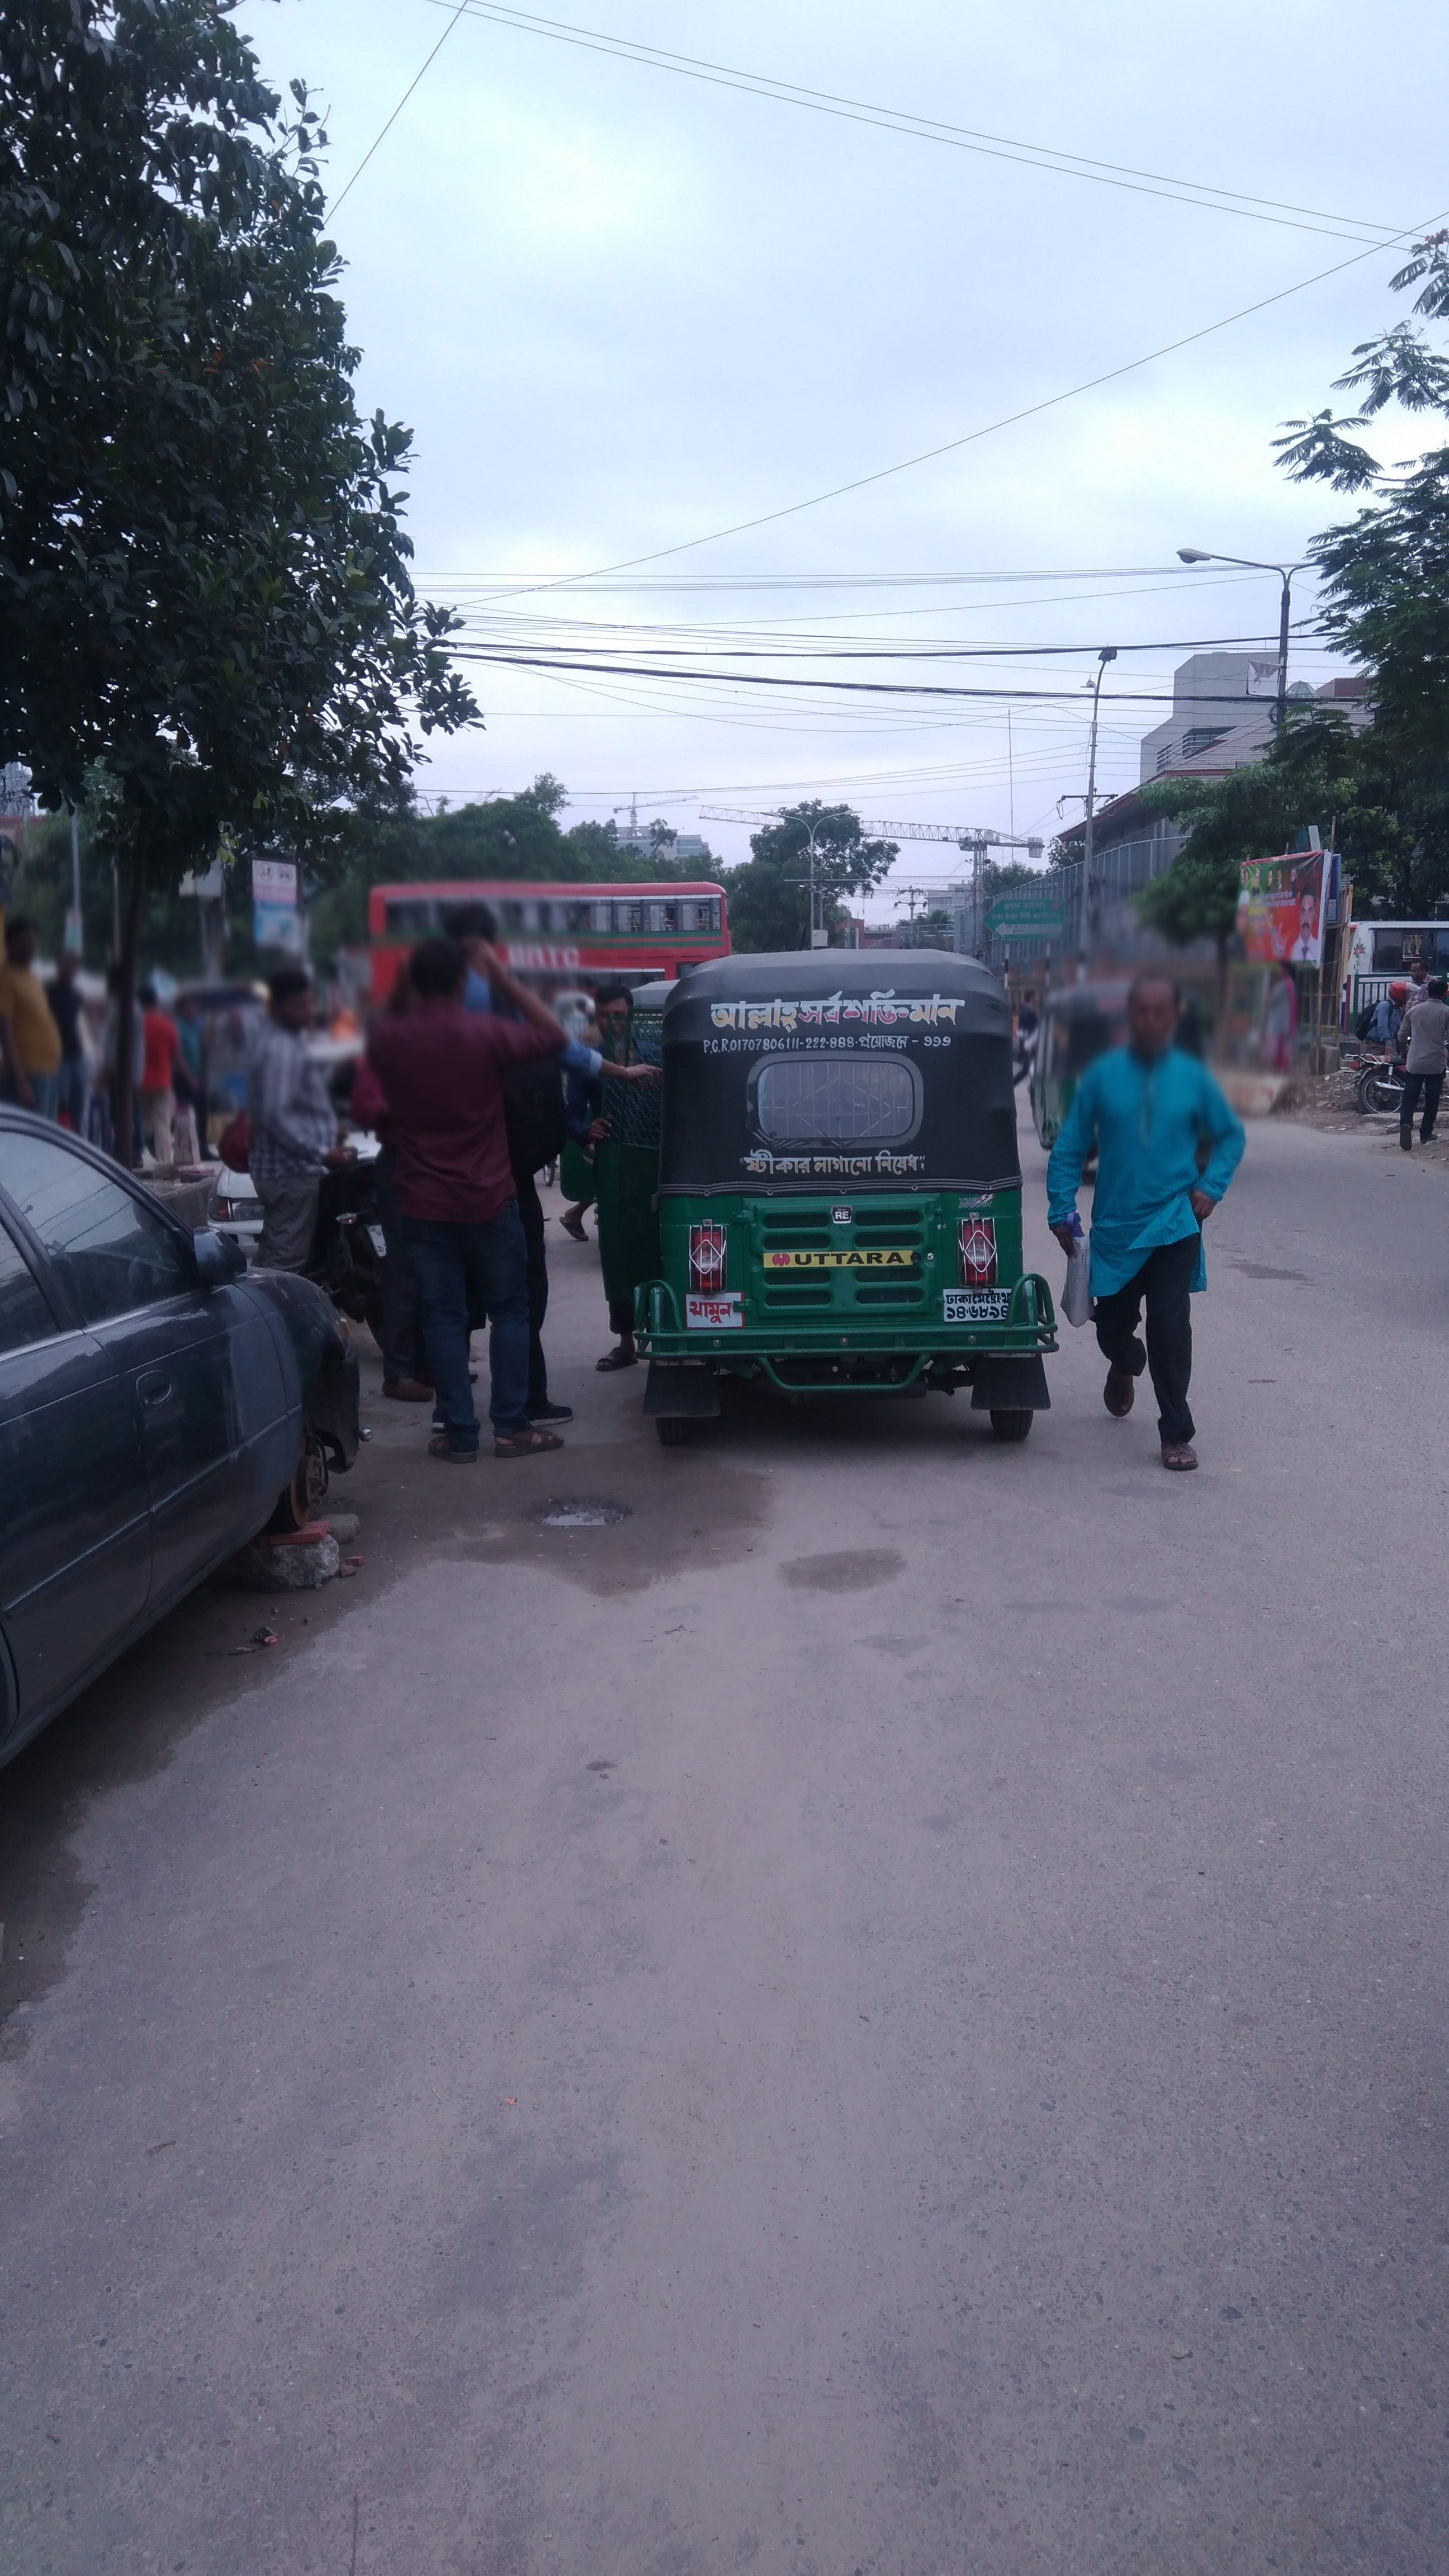bus: (364, 874, 725, 1035)
car: (0, 1102, 377, 1773)
cng: (628, 947, 1053, 1445)
